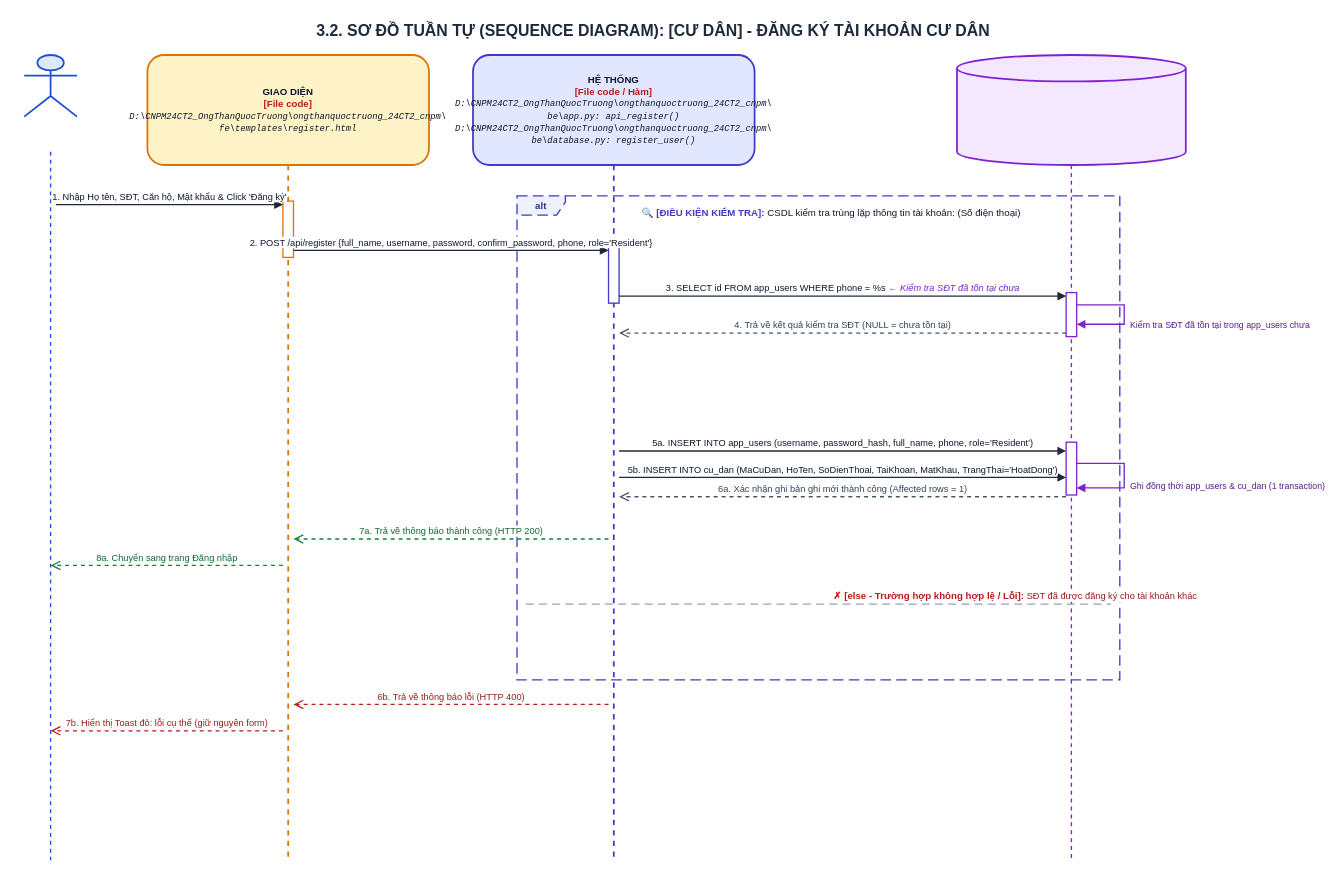
Some shapes in this 1340 by 876 pixel diagram are drawn without their labels. Here are the shapes that lost their labels. From the top down, the centre of each, then its label:
At (50,85): "TÁC NHÂN Cư Dân (Resident)".
At (1071,109): "CƠ SỞ DỮ LIỆU [db / Bảng] HTTT_QuanLyBaiXe_AI / app_users, cu_dan".
